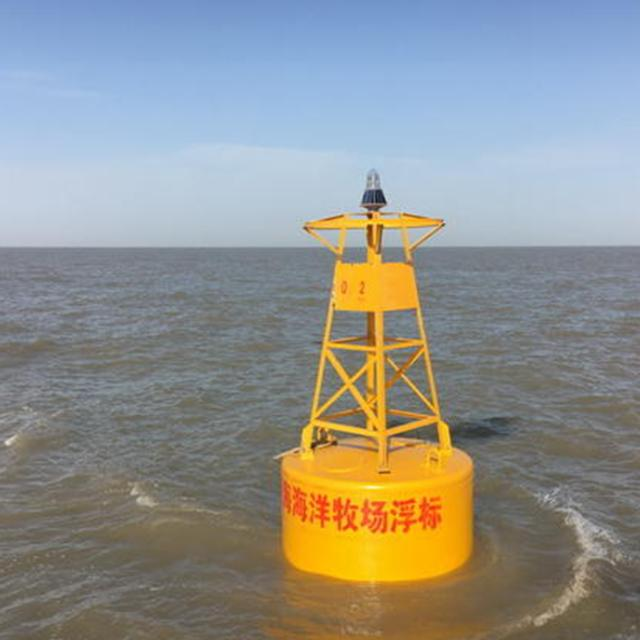buoy: (277, 161, 488, 576)
